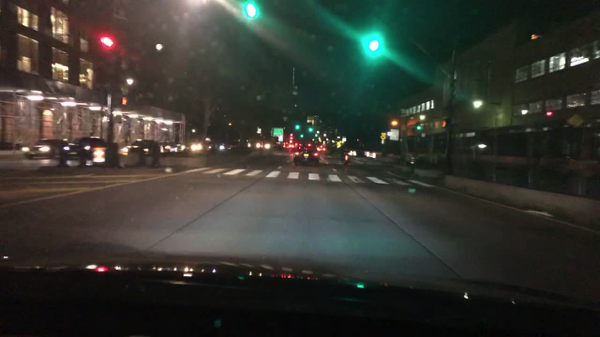car: (61, 136, 119, 166), (23, 138, 71, 159), (118, 138, 162, 154), (294, 145, 320, 166), (162, 141, 190, 153), (228, 139, 252, 152), (206, 141, 229, 154), (188, 141, 210, 153), (255, 140, 273, 151), (158, 140, 170, 151), (365, 151, 377, 159), (349, 148, 359, 156), (316, 145, 327, 152), (281, 145, 288, 150), (288, 145, 295, 149)
motor: (342, 154, 350, 167)
rider: (342, 148, 349, 161)
traffic light: (244, 3, 261, 22), (369, 38, 381, 52), (120, 97, 129, 107), (416, 124, 425, 132), (546, 111, 554, 119), (441, 120, 448, 129), (390, 118, 396, 127), (294, 125, 301, 130), (308, 127, 313, 132), (289, 135, 294, 140), (356, 138, 361, 142)
traffic sign: (567, 114, 583, 129), (389, 129, 400, 142), (271, 128, 284, 138), (380, 132, 387, 142)
